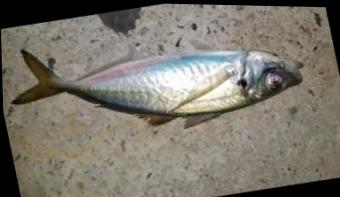fish: (8, 46, 304, 128)
